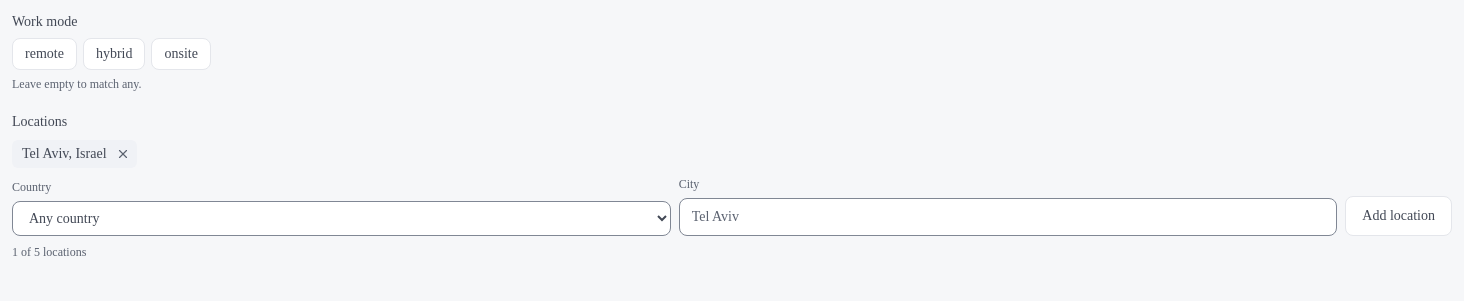
it: StepWhere › rejects a duplicate with an inline message and removes a tag
The image size is (1464, 301).
Select "Israel" in the dropdown labelled "Country": (341, 218) [12,201,671,236]
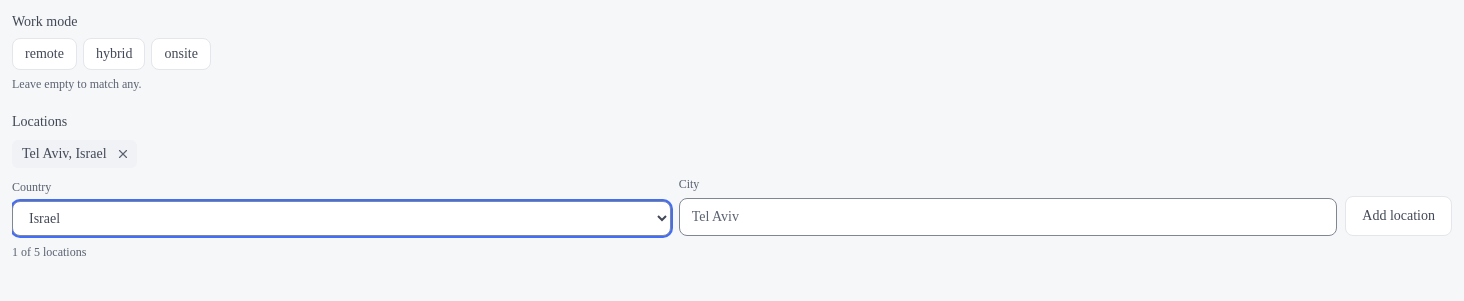
In the field labelled "City": (1008, 217) [679,198,1337,236], type "tel aviv"
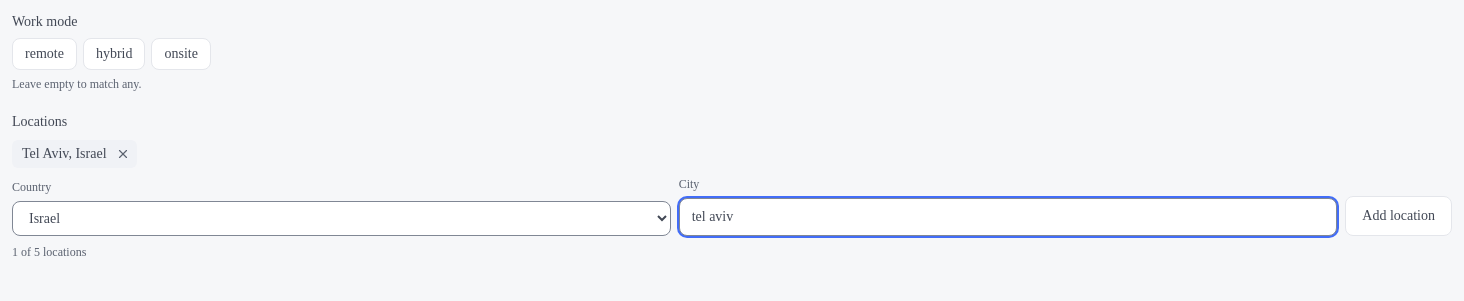
Click the button "Add location": (1399, 216) [1345,196,1452,236]
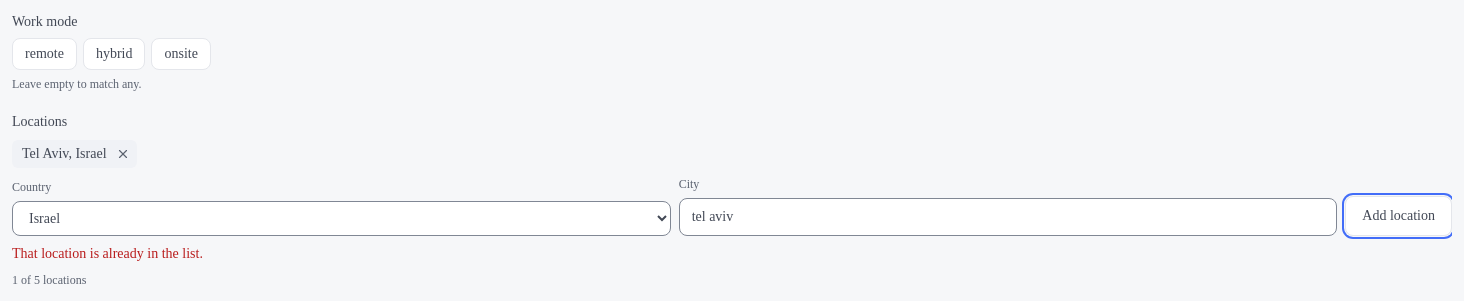
Now the message reads "That location is already in the list.", box [12,246,203,261]
Click the button named "Remove Tel Aviv, Israel": (122, 154) [110,142,134,166]
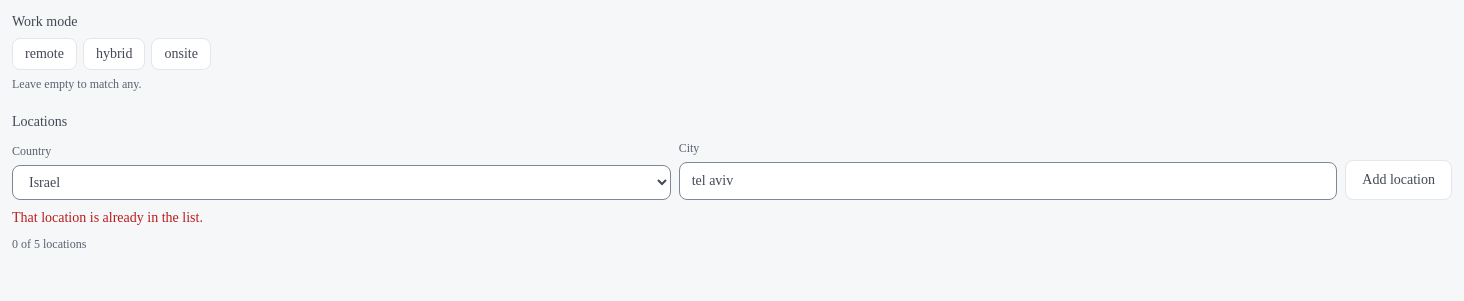
Now the text "Tel Aviv, Israel" is gone
